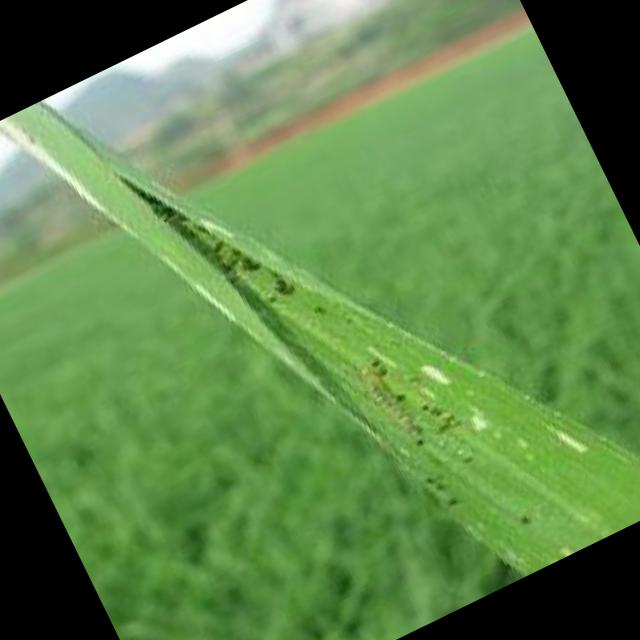leaf-folder: (300, 326, 478, 524)
